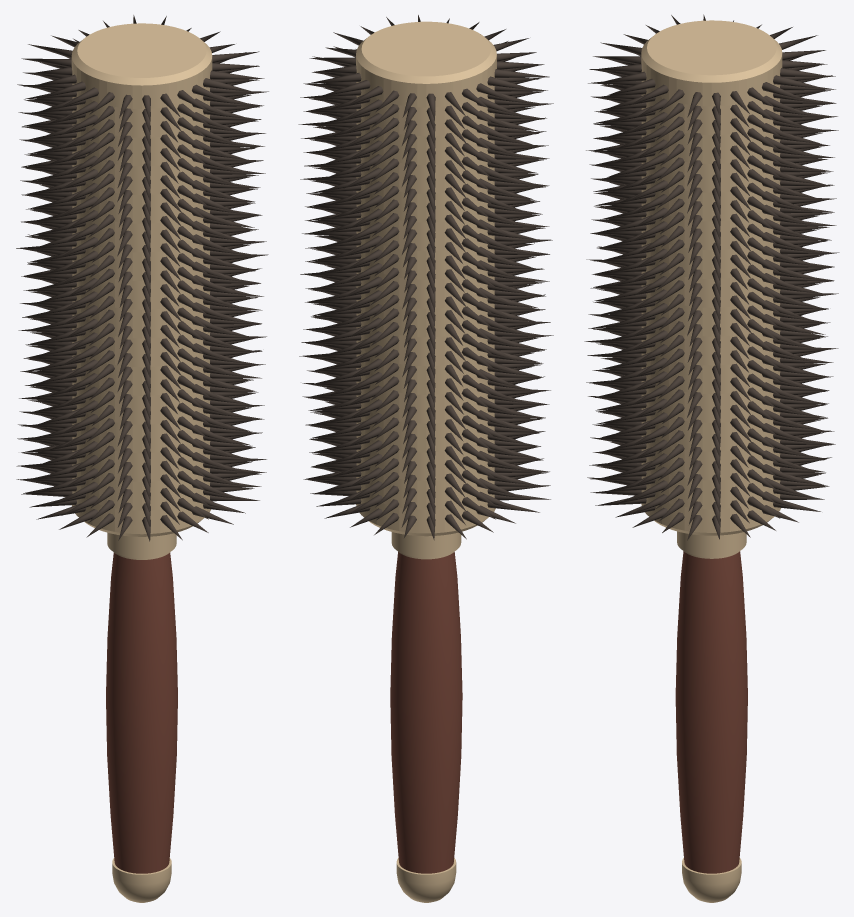
The model's file is brush.glb.
3 views of the same model, side by side, from view 1: azimuth 30°, elevation 25°; view 2: azimuth 150°, elevation 25°; view 3: azimuth 270°, elevation 25° (orthographic).
Visible parts, largest first — view 1: Bristles_Mesh, Barrel_Mesh, Handle_Mesh; view 2: Bristles_Mesh, Barrel_Mesh, Handle_Mesh; view 3: Bristles_Mesh, Barrel_Mesh, Handle_Mesh.
Part boxes in pixels (box(x1,y1,x2,y2)): Bristles_Mesh: box(16, 15, 268, 541); Barrel_Mesh: box(71, 23, 212, 536); Handle_Mesh: box(106, 532, 177, 902); Bristles_Mesh: box(298, 15, 553, 540); Barrel_Mesh: box(356, 21, 496, 536); Handle_Mesh: box(390, 532, 462, 902); Bristles_Mesh: box(584, 14, 839, 540); Barrel_Mesh: box(641, 20, 782, 535); Handle_Mesh: box(675, 531, 747, 902).
Size of the model in its own units: 0.2725 by 1 by 0.2729.
